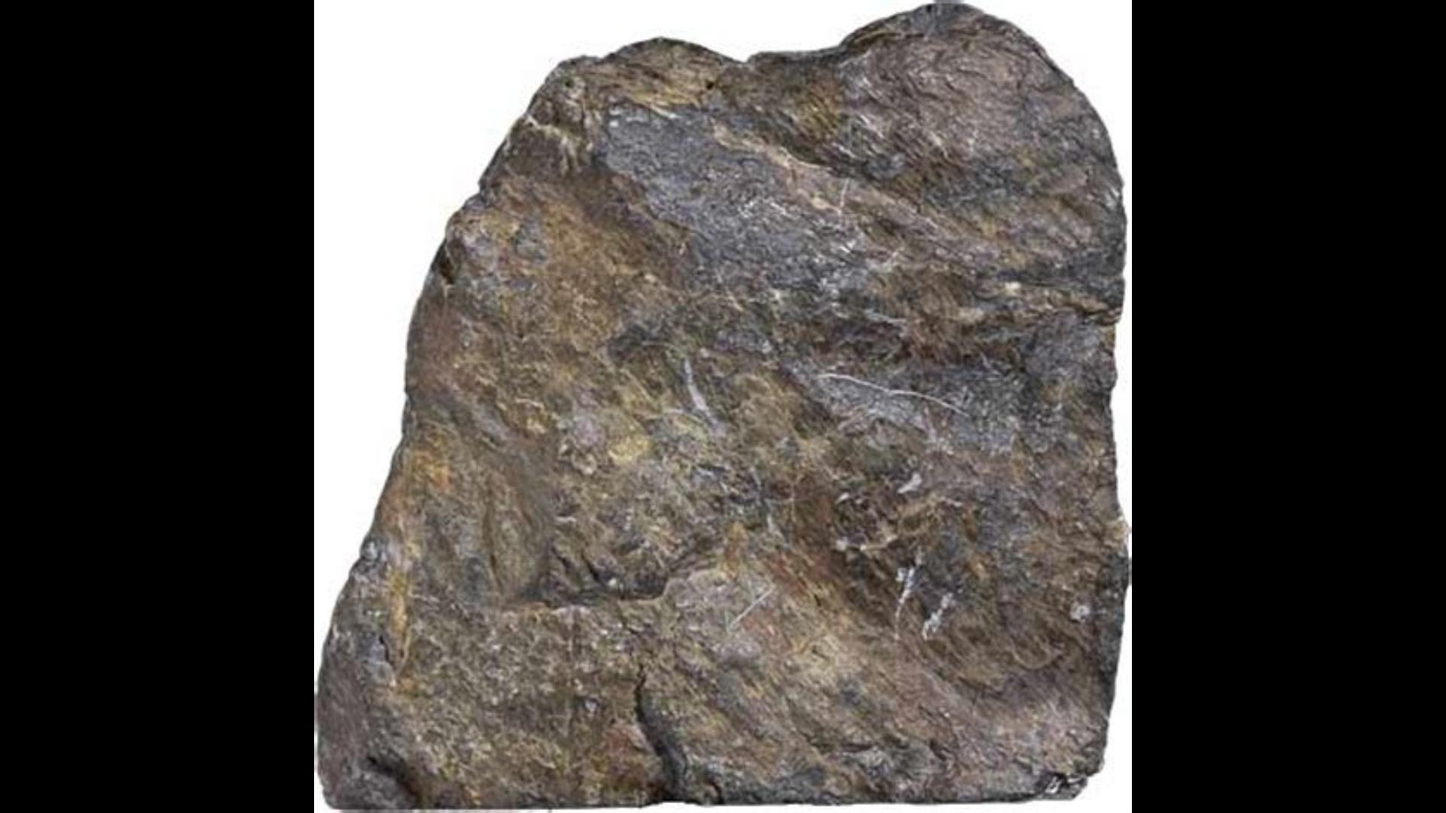rock: (319, 5, 1126, 804)
